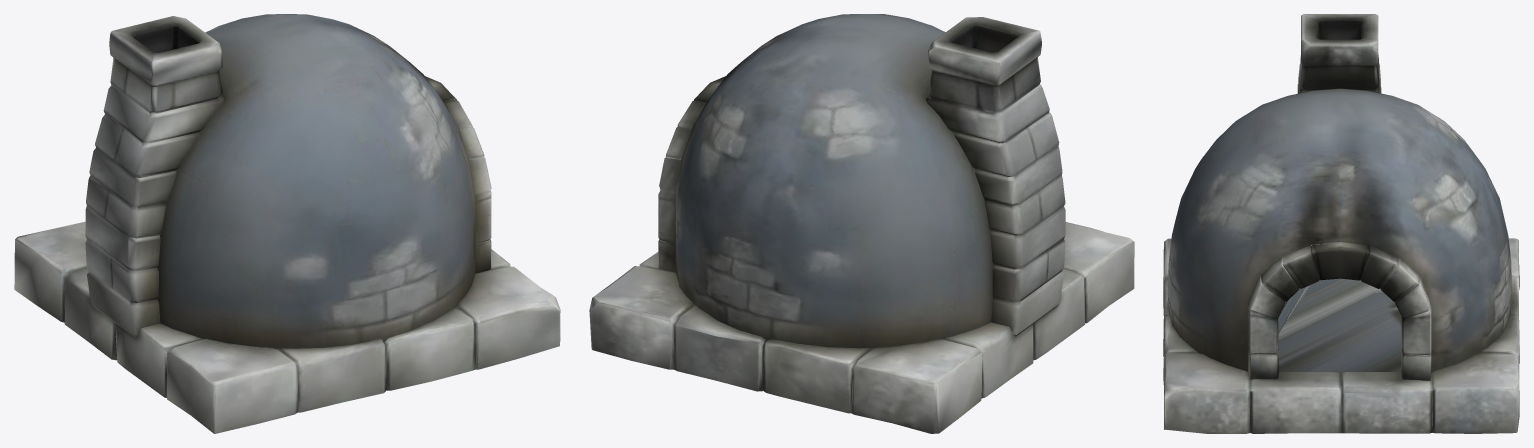
File: oven.glb
The picture shows the model from 3 angles, left to right: view 1: azimuth 30°, elevation 25°; view 2: azimuth 150°, elevation 25°; view 3: azimuth 270°, elevation 25°; orthographic projection. The views are drawn at different scales.
Parts seen in each view (by area): view 1: model; view 2: model; view 3: model.
Boxes of the visible parts, left/top/right/bottom form: model: left=14, top=14, right=560, bottom=433; model: left=589, top=14, right=1134, bottom=433; model: left=1163, top=14, right=1519, bottom=433.
Size of the model in its own units: 1.2 by 1 by 1.17.
1 material, 1 textured.
